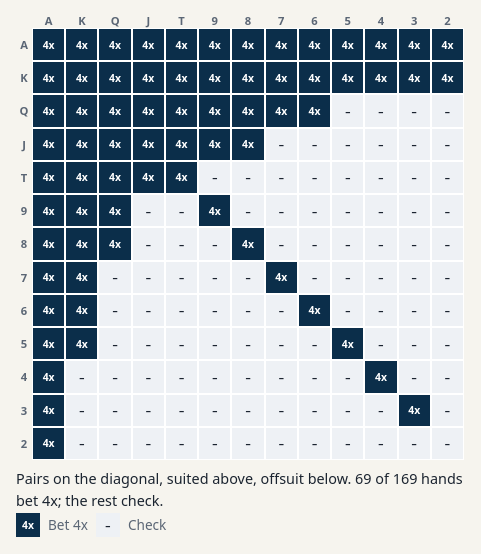
Scenario: StrategyChart › names each cell and shows the answer on tap, text not colour
Click the cell named "K4o: Check" at [82, 377], box [65,360,98,394]
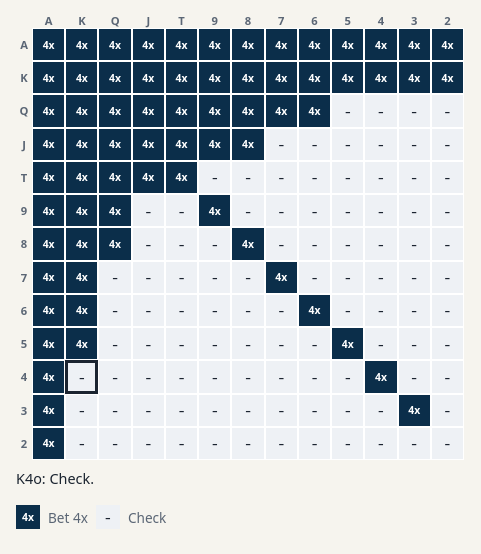
Expected: the text with class "sim-chart-legend" reads "K4o: Check.", [16,469,94,488]
